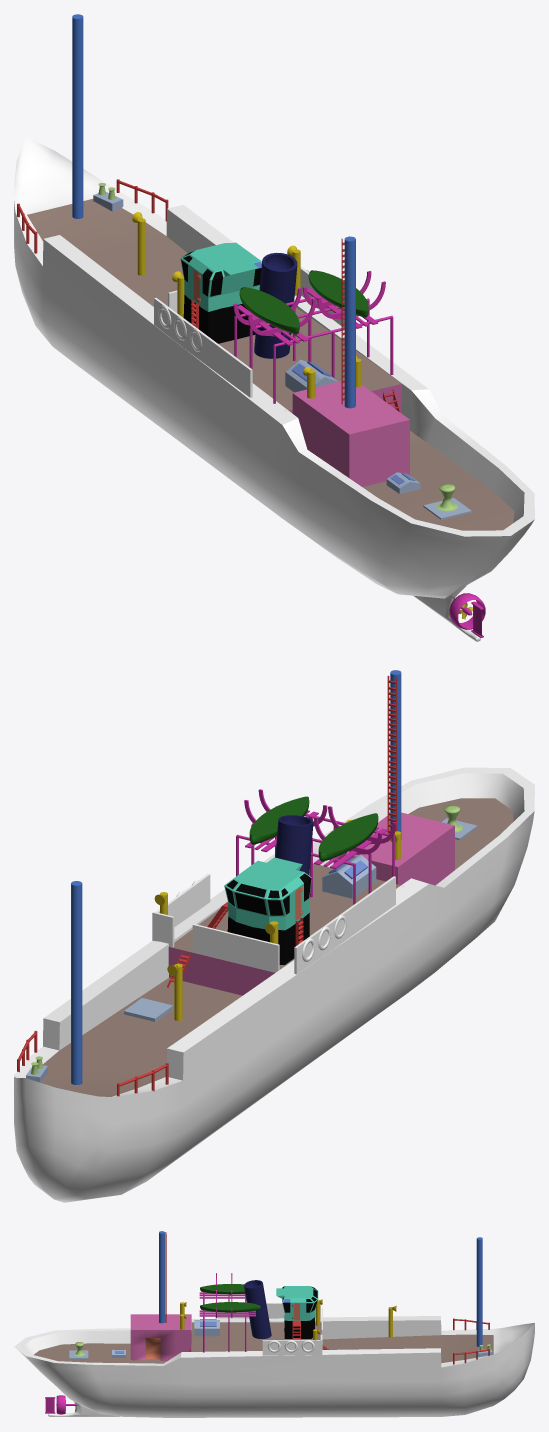
File: schiff_final_uv.fbx
The picture shows the model from 3 angles, top to bottom: view 1: azimuth 30°, elevation 25°; view 2: azimuth 150°, elevation 25°; view 3: azimuth 270°, elevation 25°; orthographic projection. The views are drawn at different scales.
Visible parts, largest first — view 1: group1_pasted__tugboat_prop3_pasted__polySurface506; view 2: group1_pasted__tugboat_prop3_pasted__polySurface506; view 3: group1_pasted__tugboat_prop3_pasted__polySurface506.
Boxes of the visible parts, x1,y1,x2,y2 form: group1_pasted__tugboat_prop3_pasted__polySurface506: (14,14,534,641); group1_pasted__tugboat_prop3_pasted__polySurface506: (14,670,534,1202); group1_pasted__tugboat_prop3_pasted__polySurface506: (14,1231,534,1417).
Size of the model in its own units: 667 by 1431 by 3793.
